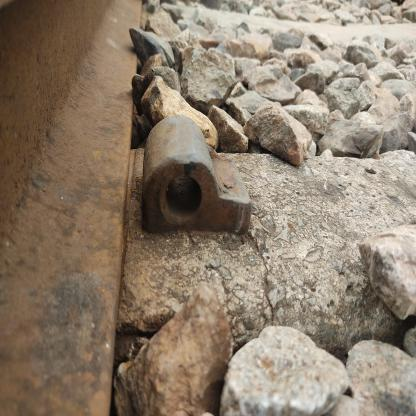Defective: (85, 58, 298, 296)
